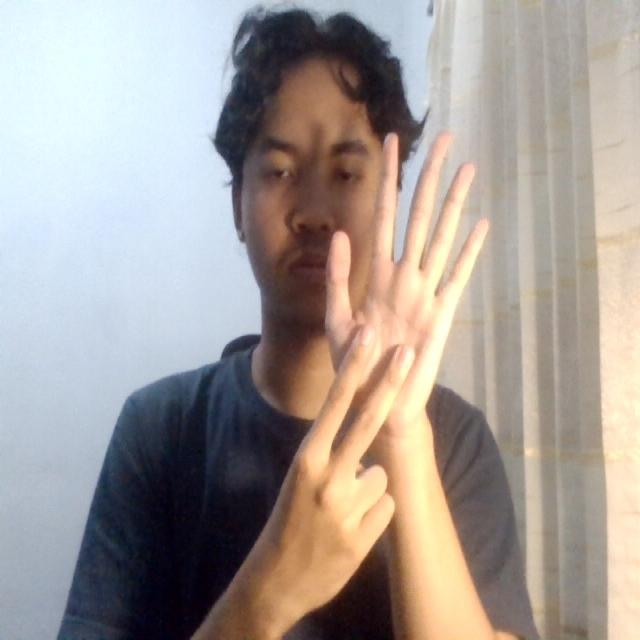IloveYou: (280, 121, 507, 530)
